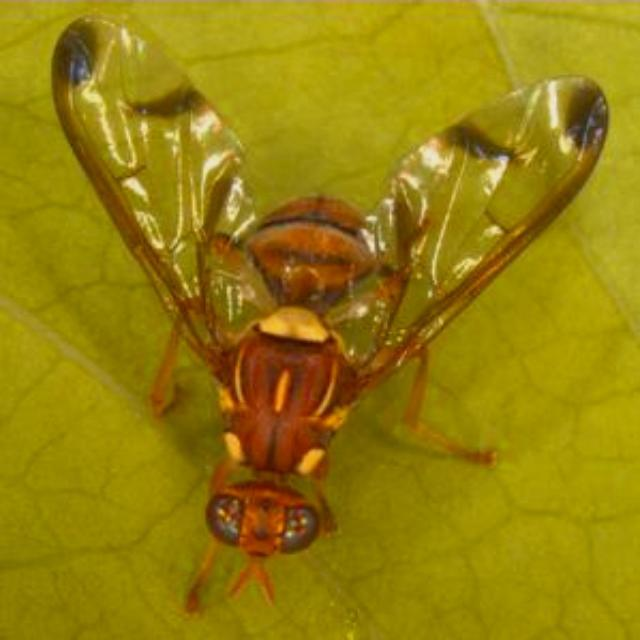melon fly: (36, 1, 622, 630)
